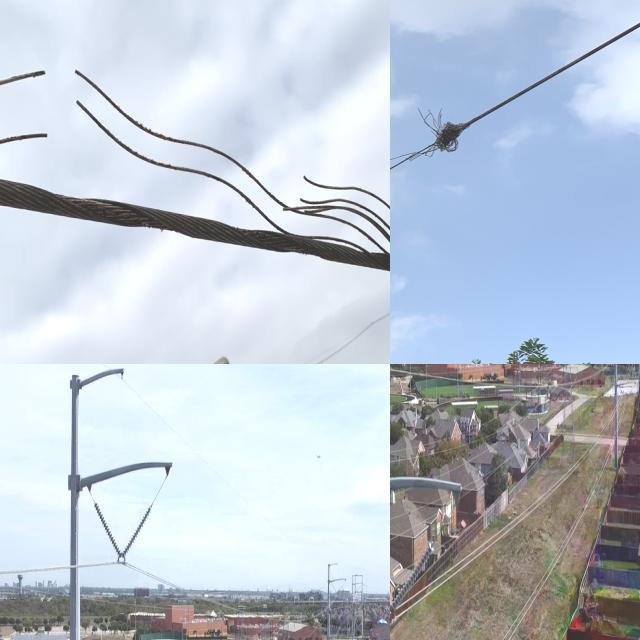正常电缆: (436, 427, 604, 596), (495, 457, 611, 640), (390, 364, 611, 395)
正常绝缘子: (390, 540, 443, 627), (114, 498, 157, 570), (89, 495, 126, 566)
电缆破损: (0, 49, 390, 282), (390, 91, 497, 195)
